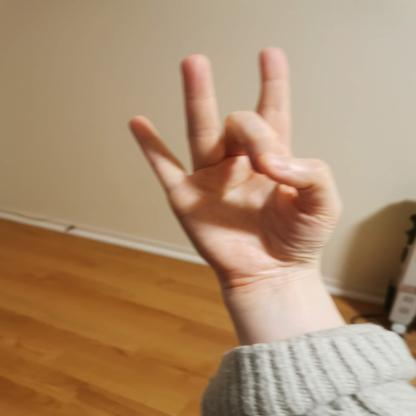eight: (122, 45, 348, 290)
